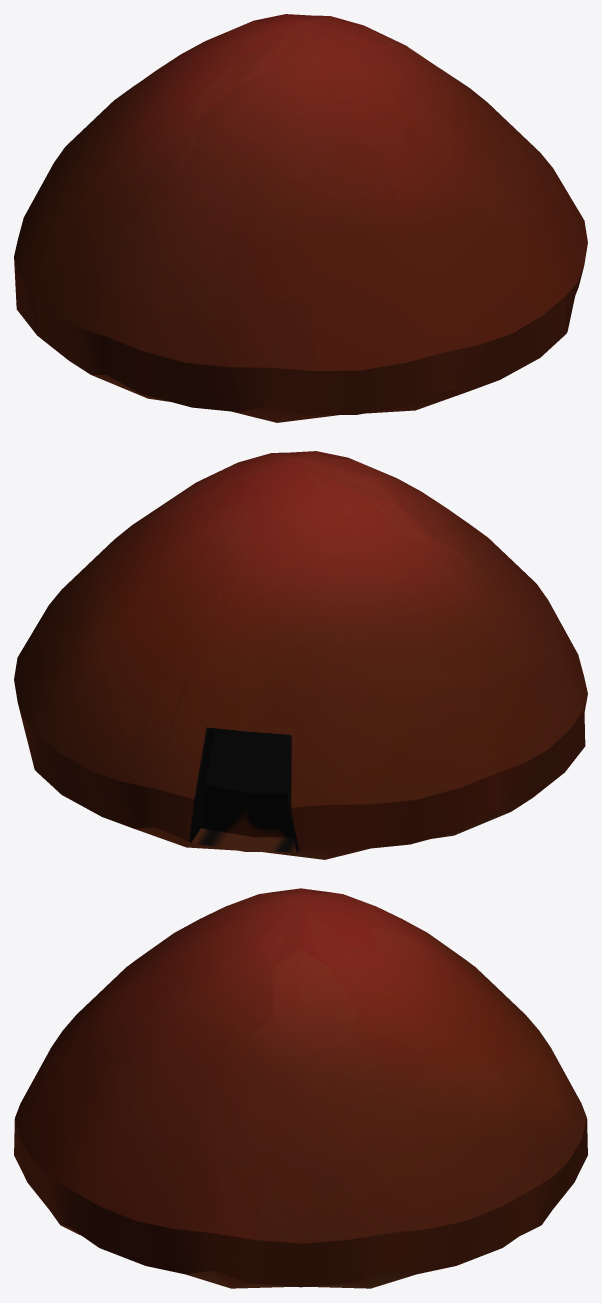
Rendered from oca.fbx.
The picture shows the model from 3 angles, top to bottom: view 1: azimuth 30°, elevation 25°; view 2: azimuth 150°, elevation 25°; view 3: azimuth 270°, elevation 25°; orthographic projection.
Visible parts, largest first — view 1: Cone.001; view 2: Cone.001; view 3: Cone.001.
Part boxes in pixels (<box>): Cone.001: <box>14,14,587,422</box>; Cone.001: <box>14,451,587,859</box>; Cone.001: <box>14,888,587,1288</box>.
Bounding box in the file's own units: 147 × 95.79 × 150.
